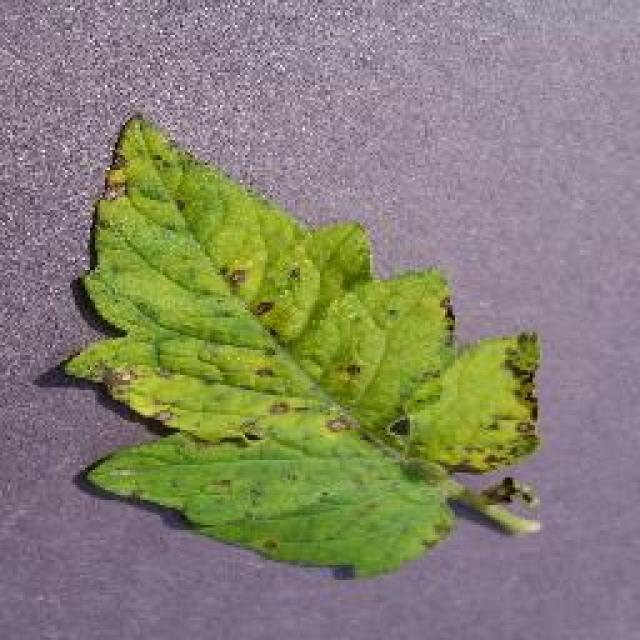Tomato___Septoria_leaf_spot: (65, 118, 538, 572)
